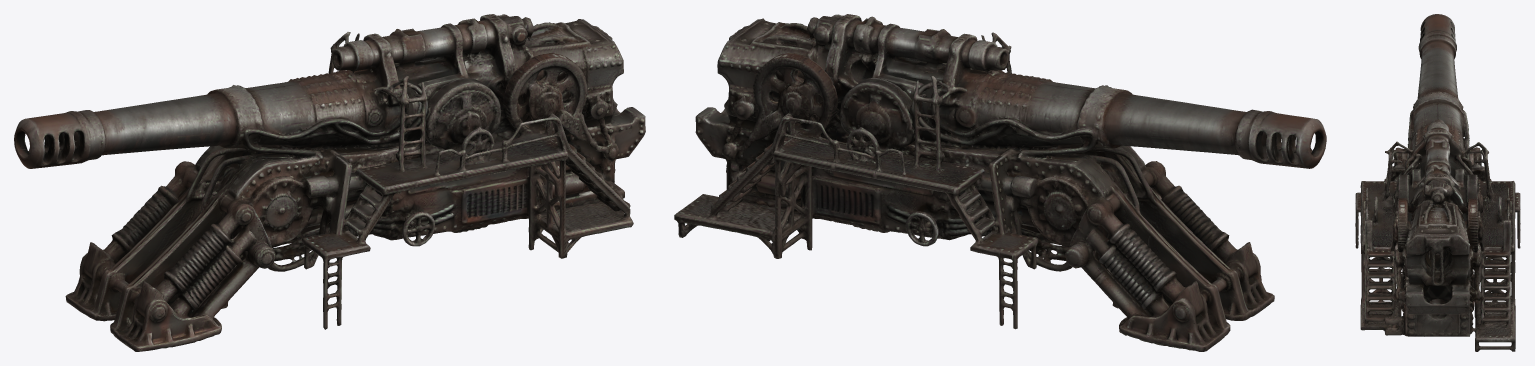
The model's file is TestBigGun.glb.
3 views of the same model, side by side, from view 1: azimuth 30°, elevation 25°; view 2: azimuth 150°, elevation 25°; view 3: azimuth 270°, elevation 25° (orthographic). The views are drawn at different scales.
Visible parts, largest first — view 1: Mesh_0; view 2: Mesh_0; view 3: Mesh_0.
Part boxes in pixels (left/top/right/bottom): Mesh_0: left=14, top=14, right=645, bottom=351; Mesh_0: left=674, top=14, right=1326, bottom=351; Mesh_0: left=1355, top=14, right=1520, bottom=351.
Size of the model in its own units: 1.91 by 0.6778 by 0.6665.
1 material, 1 textured.
